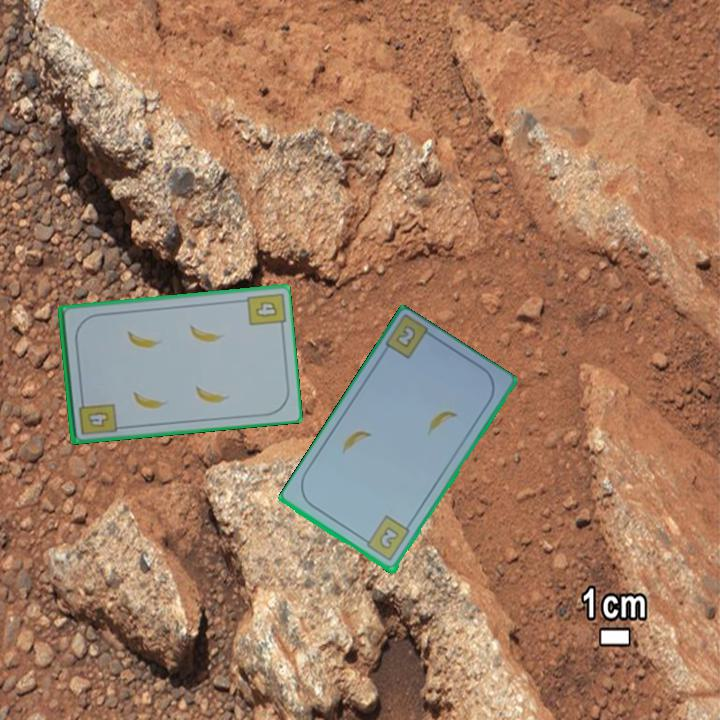2b: (359, 512, 413, 564), (392, 322, 419, 351)
4b: (75, 393, 119, 438), (252, 297, 281, 320)
